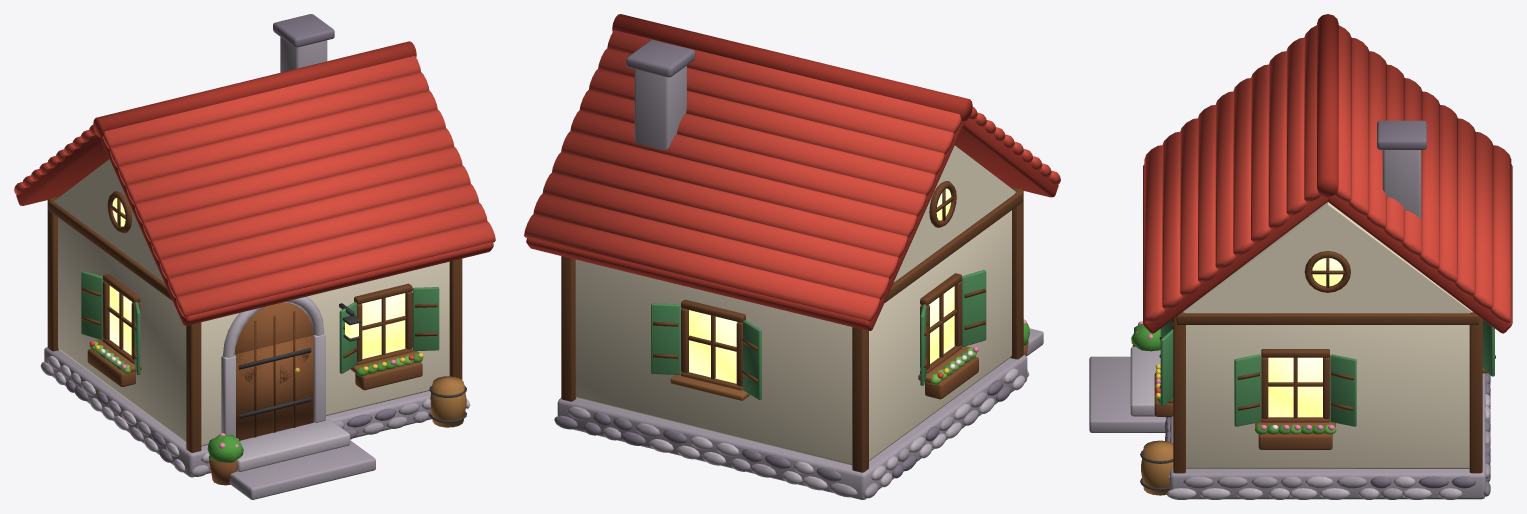
Rendered from bld_cottage_red_v02.glb.
3 views of the same model, side by side, from view 1: azimuth 30°, elevation 25°; view 2: azimuth 150°, elevation 25°; view 3: azimuth 270°, elevation 25° (orthographic). The views are drawn at different scales.
Parts seen in each view (by area): view 1: bld_cottage_red_v02; view 2: bld_cottage_red_v02; view 3: bld_cottage_red_v02.
Part boxes in pixels (x1,y1,x2,y2): bld_cottage_red_v02: (14, 14, 495, 499); bld_cottage_red_v02: (524, 14, 1060, 499); bld_cottage_red_v02: (1089, 14, 1512, 499).
Bounding box in the file's own units: 6 × 5.92 × 6.57.
Materials: 2 (1 with a texture image).
